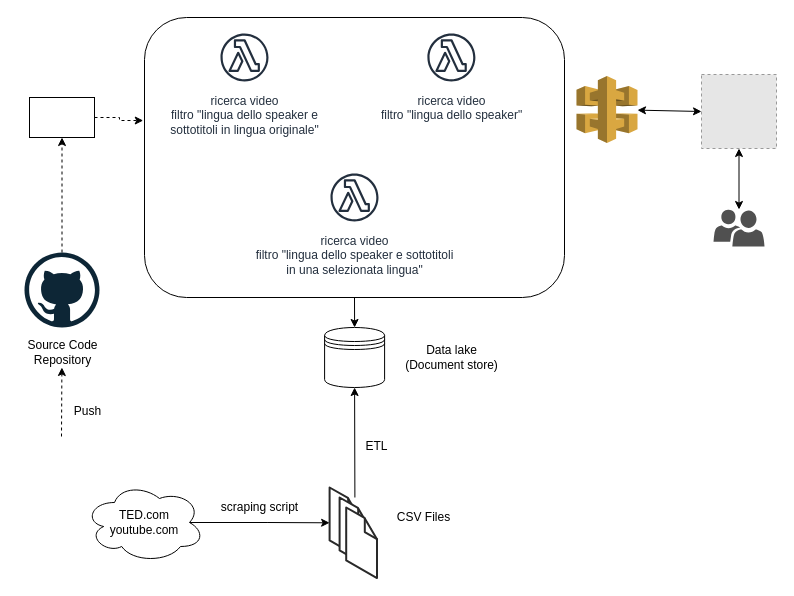
This 794x596 diagram has some shape labels left out. Grey dashed boxes stand in for pictures. The shapes that lost their labels are listed below. From the top down, each one's box as (x1, y1, x2, y2) in pixels, then its label:
(28, 96, 94, 138): CI/CD
(576, 75, 638, 143): API gateway
